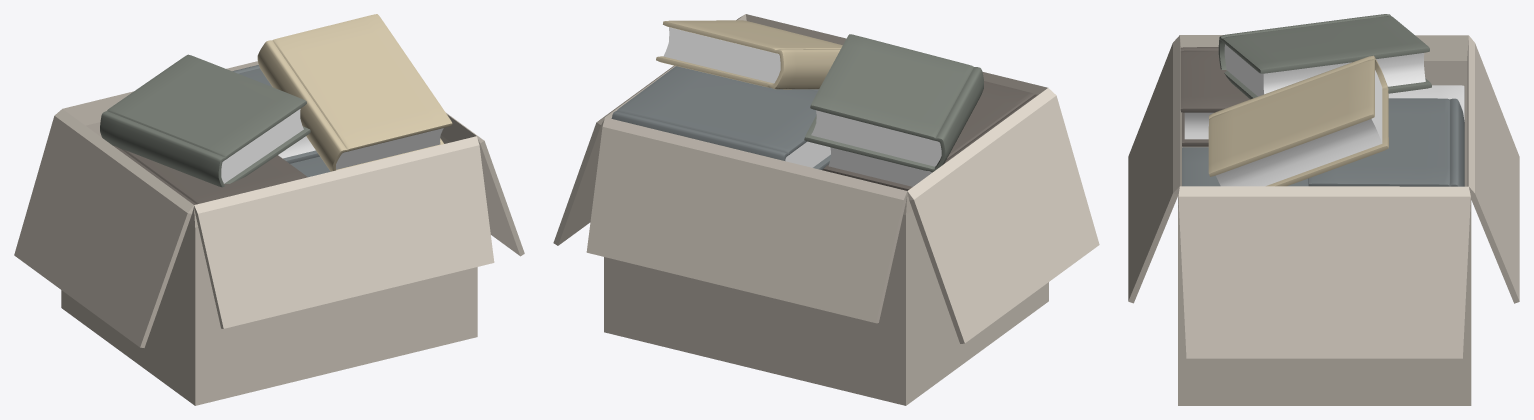
Rendered from bookbox.fbx.
3 renders of one model, left to right at view 1: azimuth 30°, elevation 25°; view 2: azimuth 150°, elevation 25°; view 3: azimuth 270°, elevation 25°, orthographic. The views are drawn at different scales.
Visible parts, largest first — view 1: Cube.054, cover._g.001, cover._g, page.001, cover_br, cover_b.001; view 2: Cube.054, cover._g, cover_b.001, page.001, cover._g.001, cover_br; view 3: Cube.054, cover._g.001, cover_b.001, page.001, cover._g, cover_br, cover_r.
Part boxes in pixels (left/top/right/bottom): Cube.054: left=14, top=61, right=524, bottom=405; cover._g.001: left=257, top=14, right=452, bottom=171; cover._g: left=100, top=54, right=310, bottom=187; page.001: left=221, top=109, right=443, bottom=183; cover_br: left=113, top=145, right=307, bottom=204; cover_b.001: left=232, top=65, right=330, bottom=177; Cube.054: left=553, top=14, right=1099, bottom=405; cover._g: left=804, top=34, right=983, bottom=172; cover_b.001: left=611, top=66, right=830, bottom=169; page.001: left=663, top=27, right=941, bottom=186; cover._g.001: left=656, top=20, right=842, bottom=89; cover_br: left=822, top=81, right=1038, bottom=190; Cube.054: left=1128, top=35, right=1519, bottom=405; cover._g.001: left=1208, top=55, right=1388, bottom=186; cover_b.001: left=1182, top=98, right=1464, bottom=186; page.001: left=1184, top=44, right=1425, bottom=186; cover._g: left=1218, top=14, right=1431, bottom=99; cover_br: left=1180, top=47, right=1249, bottom=146; cover_r: left=1388, top=85, right=1464, bottom=121.
Size of the model in its own units: 55.52 by 35.98 by 44.6.
